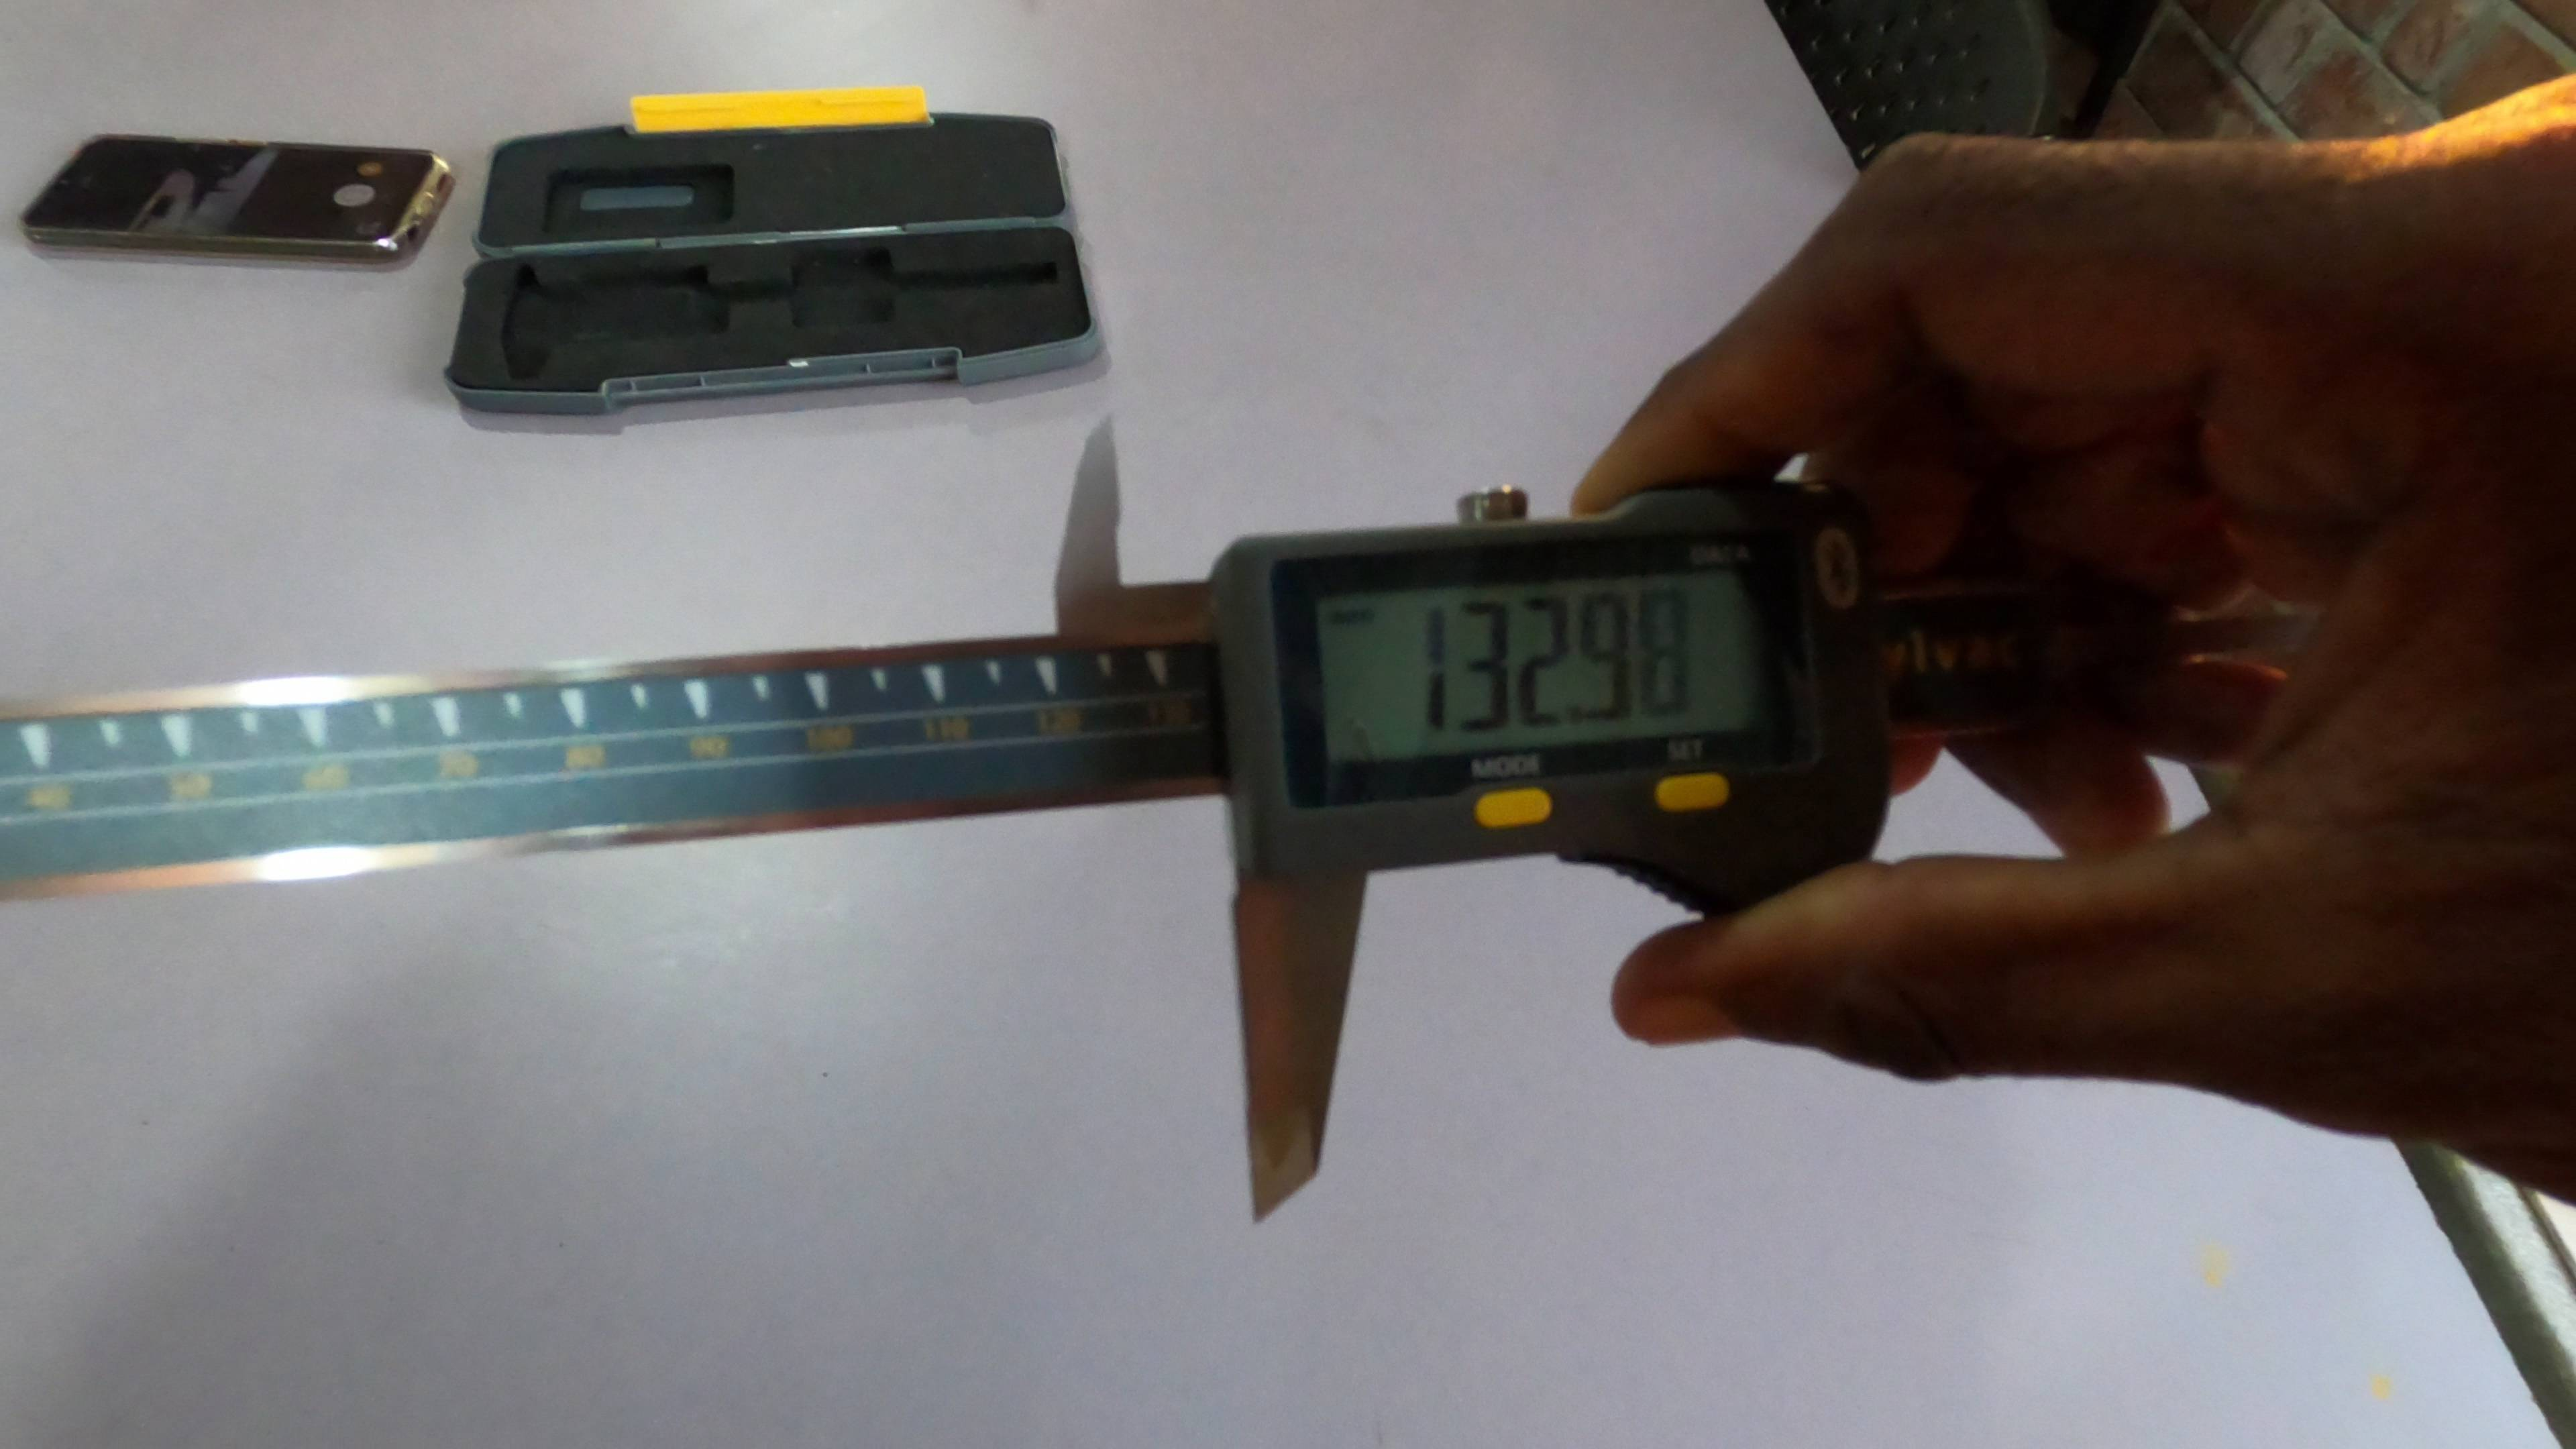vernier_caliper: (0, 377, 1939, 1233)
